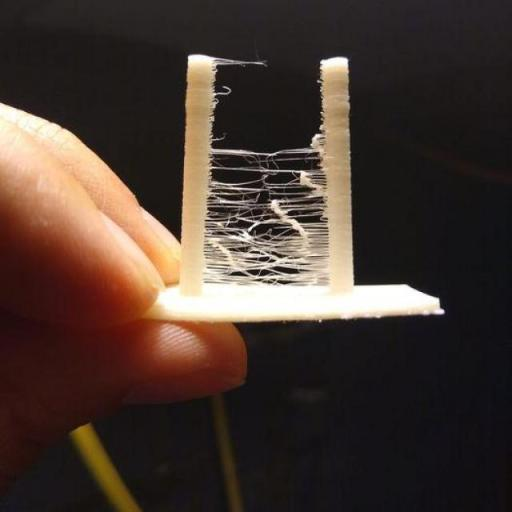stringing: (206, 128, 336, 294)
